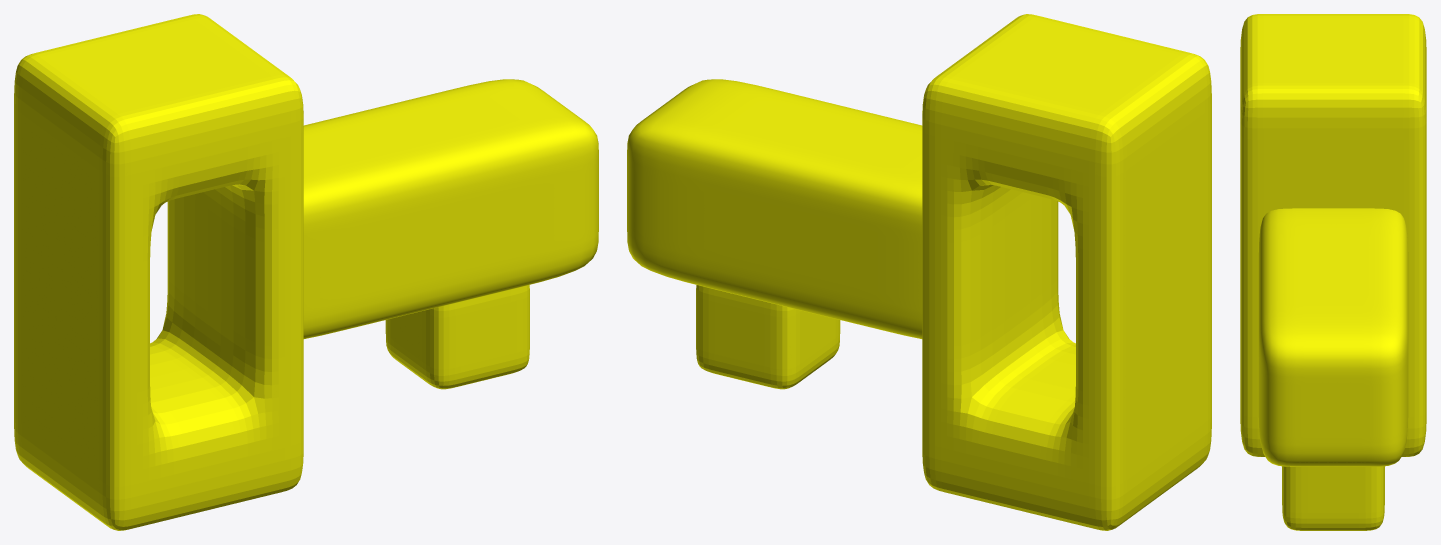
File: Key_and_Keyhole.fbx
3 renders of one model, left to right at view 1: azimuth 30°, elevation 25°; view 2: azimuth 150°, elevation 25°; view 3: azimuth 270°, elevation 25°, orthographic. The views are drawn at different scales.
Visible parts, largest first — view 1: Cube; view 2: Cube; view 3: Cube.
Part boxes in pixels (bbox=[...]): Cube: bbox=[14, 14, 598, 530]; Cube: bbox=[627, 14, 1211, 530]; Cube: bbox=[1240, 14, 1426, 530].
Size of the model in its own units: 258 by 200 by 91.39.
